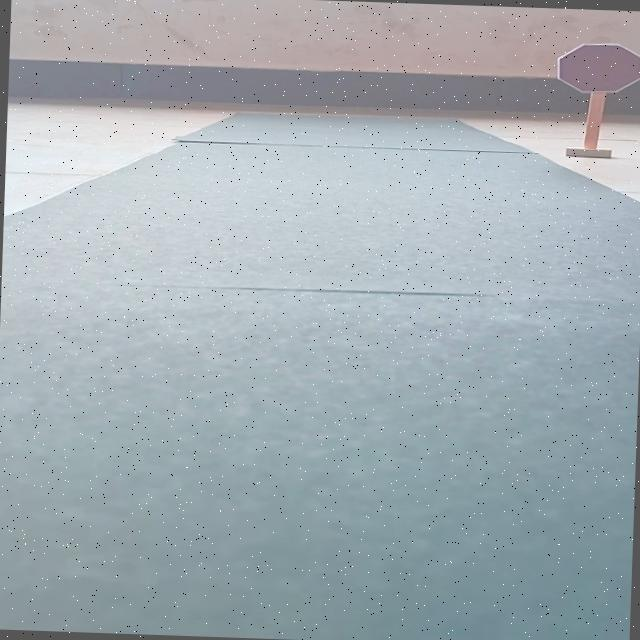Stop: (557, 42, 640, 94)
